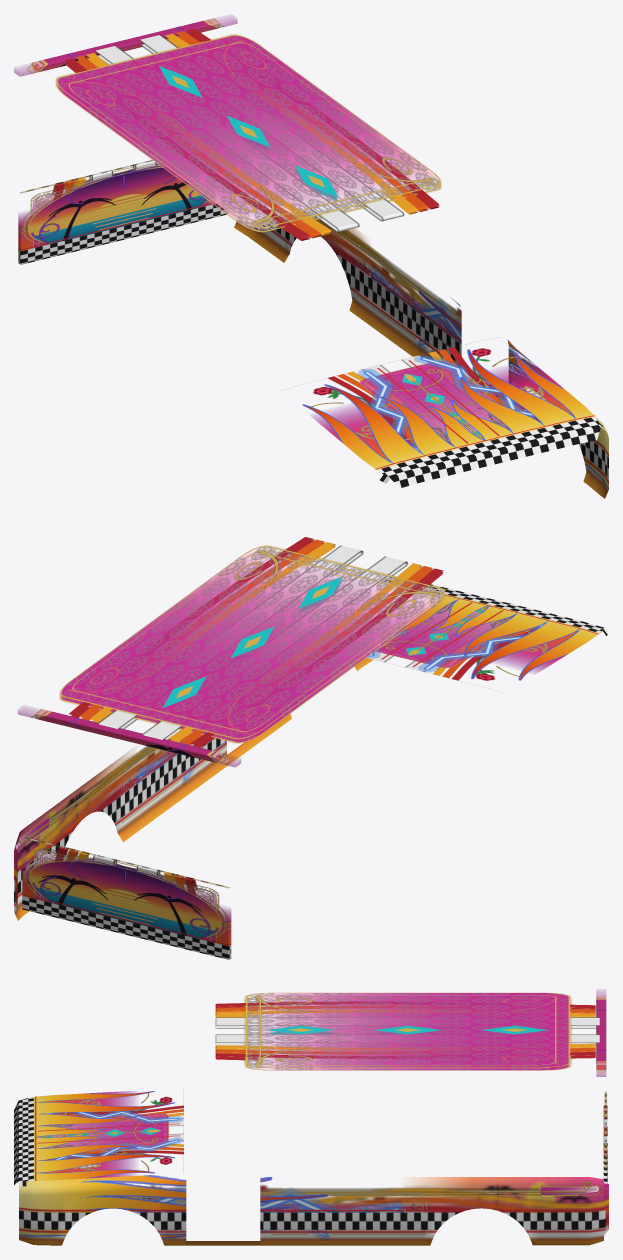
Rendered from ArmoredTruckVinyls.glb.
The picture shows the model from 3 angles, top to bottom: view 1: azimuth 30°, elevation 25°; view 2: azimuth 150°, elevation 25°; view 3: azimuth 270°, elevation 25°; orthographic projection. The views are drawn at different scales.
Visible parts, largest first — view 1: ArmoredTruckLivery_patterns_roof, ArmoredTruckLivery_purple_lace_roof, ArmoredTruckLivery_flames_hood, ArmoredTruckLivery_mural_trunk, ArmoredTruckLivery_retro_waves_roof, ArmoredTruckLivery_checker_hood, ArmoredTruckLivery_stripes_roof, ArmoredTruckLivery_checker_side, ArmoredTruckLivery_patterns_hood, ArmoredTruckLivery_checker_trunk, ArmoredTruckLivery_showcar_roof, ArmoredTruckLivery_sunset_fade_side (+14 smaller); view 2: ArmoredTruckLivery_patterns_roof, ArmoredTruckLivery_purple_lace_roof, ArmoredTruckLivery_mural_trunk, ArmoredTruckLivery_retro_waves_roof, ArmoredTruckLivery_stripes_roof, ArmoredTruckLivery_flames_hood, ArmoredTruckLivery_checker_trunk, ArmoredTruckLivery_checker_side, ArmoredTruckLivery_patterns_hood, ArmoredTruckLivery_showcar_roof, ArmoredTruckLivery_sunset_fade_side, ArmoredTruckLivery_retro_waves_side (+15 smaller); view 3: ArmoredTruckLivery_patterns_roof, ArmoredTruckLivery_purple_lace_roof, ArmoredTruckLivery_checker_side, ArmoredTruckLivery_flames_side, ArmoredTruckLivery_flames_hood, ArmoredTruckLivery_retro_waves_roof, ArmoredTruckLivery_retro_waves_side, ArmoredTruckLivery_sunset_fade_side, ArmoredTruckLivery_tropical_side, ArmoredTruckLivery_stripes_roof, ArmoredTruckLivery_stripes_side, ArmoredTruckLivery_patterns_hood (+18 smaller).
Part boxes in pixels (left/top/right/bottom): ArmoredTruckLivery_patterns_roof: left=56, top=35, right=440, bottom=231; ArmoredTruckLivery_purple_lace_roof: left=68, top=46, right=437, bottom=230; ArmoredTruckLivery_flames_hood: left=302, top=349, right=595, bottom=469; ArmoredTruckLivery_mural_trunk: left=18, top=19, right=223, bottom=245; ArmoredTruckLivery_retro_waves_roof: left=65, top=28, right=439, bottom=240; ArmoredTruckLivery_checker_hood: left=375, top=360, right=604, bottom=488; ArmoredTruckLivery_stripes_roof: left=94, top=35, right=403, bottom=232; ArmoredTruckLivery_checker_side: left=263, top=222, right=608, bottom=483; ArmoredTruckLivery_patterns_hood: left=359, top=361, right=507, bottom=443; ArmoredTruckLivery_checker_trunk: left=18, top=160, right=227, bottom=264; ArmoredTruckLivery_showcar_roof: left=56, top=34, right=441, bottom=232; ArmoredTruckLivery_sunset_fade_side: left=234, top=222, right=607, bottom=498; ArmoredTruckLivery_patterns_roof: left=60, top=546, right=444, bottom=742; ArmoredTruckLivery_purple_lace_roof: left=73, top=546, right=442, bottom=732; ArmoredTruckLivery_mural_trunk: left=22, top=709, right=231, bottom=940; ArmoredTruckLivery_retro_waves_roof: left=69, top=537, right=443, bottom=747; ArmoredTruckLivery_stripes_roof: left=97, top=545, right=407, bottom=740; ArmoredTruckLivery_flames_hood: left=388, top=581, right=599, bottom=680; ArmoredTruckLivery_checker_trunk: left=22, top=837, right=231, bottom=959; ArmoredTruckLivery_checker_side: left=14, top=738, right=226, bottom=906; ArmoredTruckLivery_patterns_hood: left=376, top=603, right=509, bottom=667; ArmoredTruckLivery_showcar_roof: left=59, top=545, right=445, bottom=743; ArmoredTruckLivery_sunset_fade_side: left=14, top=658, right=373, bottom=920; ArmoredTruckLivery_retro_waves_side: left=14, top=739, right=172, bottom=901; ArmoredTruckLivery_patterns_roof: left=245, top=993, right=569, bottom=1070; ArmoredTruckLivery_purple_lace_roof: left=247, top=993, right=550, bottom=1069; ArmoredTruckLivery_checker_side: left=19, top=1206, right=606, bottom=1232; ArmoredTruckLivery_flames_side: left=19, top=1175, right=585, bottom=1238; ArmoredTruckLivery_flames_hood: left=34, top=1091, right=174, bottom=1180; ArmoredTruckLivery_retro_waves_roof: left=215, top=1001, right=595, bottom=1060; ArmoredTruckLivery_retro_waves_side: left=121, top=1187, right=608, bottom=1223; ArmoredTruckLivery_sunset_fade_side: left=19, top=1188, right=608, bottom=1245; ArmoredTruckLivery_tropical_side: left=411, top=1177, right=608, bottom=1215; ArmoredTruckLivery_stripes_roof: left=215, top=1017, right=599, bottom=1045; ArmoredTruckLivery_stripes_side: left=19, top=1224, right=608, bottom=1240; ArmoredTruckLivery_patterns_hood: left=41, top=1113, right=168, bottom=1151.
Size of the model in its own units: 8.52 by 7.67 by 24.15.
Materials: 50 (50 with a texture image).
